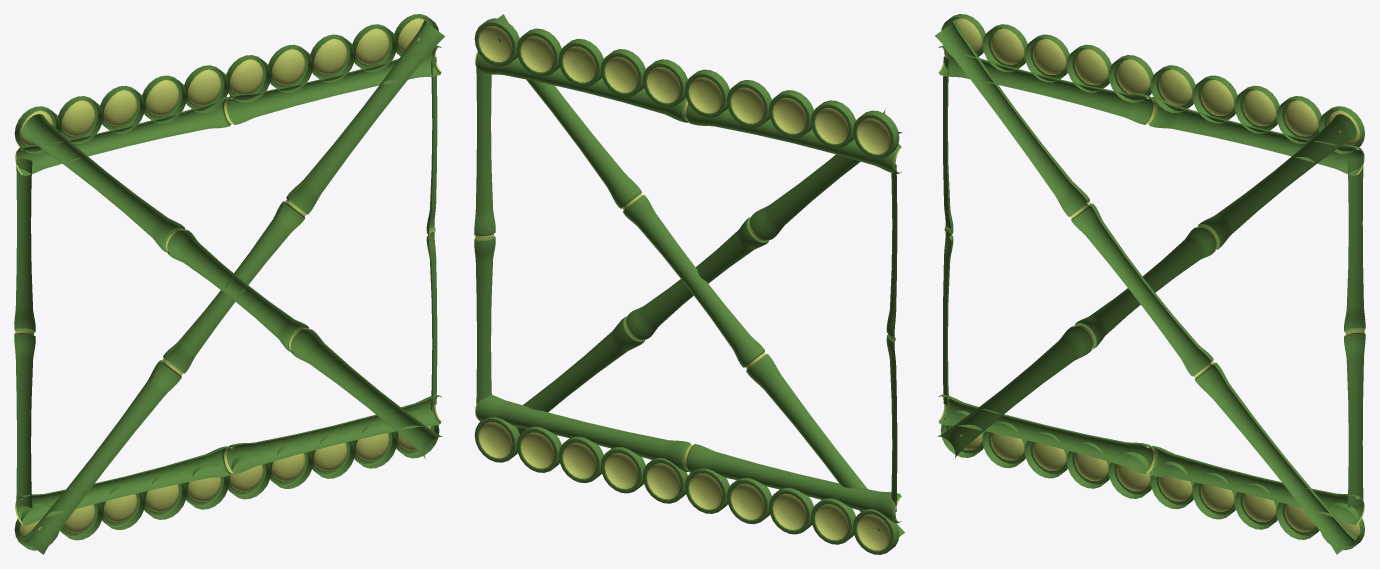
The model's file is Bamboo_Structure_Parallel_Face.fbx.
3 views of the same model, side by side, from view 1: azimuth 30°, elevation 25°; view 2: azimuth 150°, elevation 25°; view 3: azimuth 330°, elevation 25° (orthographic).
Parts seen in each view (by area): view 1: Bamboo_Structure_Parallel_Faces; view 2: Bamboo_Structure_Parallel_Faces; view 3: Bamboo_Structure_Parallel_Faces.
Part boxes in pixels (x1,y1,x2,y2): Bamboo_Structure_Parallel_Faces: [14, 14, 444, 554]; Bamboo_Structure_Parallel_Faces: [474, 14, 904, 554]; Bamboo_Structure_Parallel_Faces: [935, 14, 1365, 554].
Bounding box in the file's own units: 100 × 100 × 6.14.
